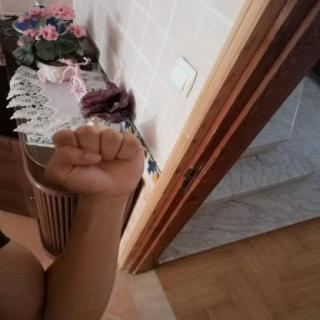SAD: (27, 115, 153, 209)
